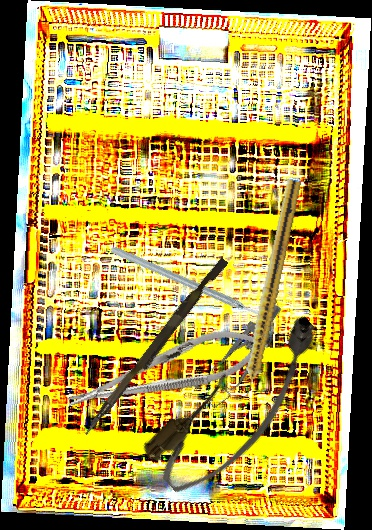Cannula: (136, 304, 346, 506)
Chopper: (108, 193, 281, 371)
Handpiece: (235, 178, 303, 402)
Needle Holder: (60, 315, 274, 426)
Pusher: (82, 253, 229, 442)
Speculum: (182, 302, 306, 411)
